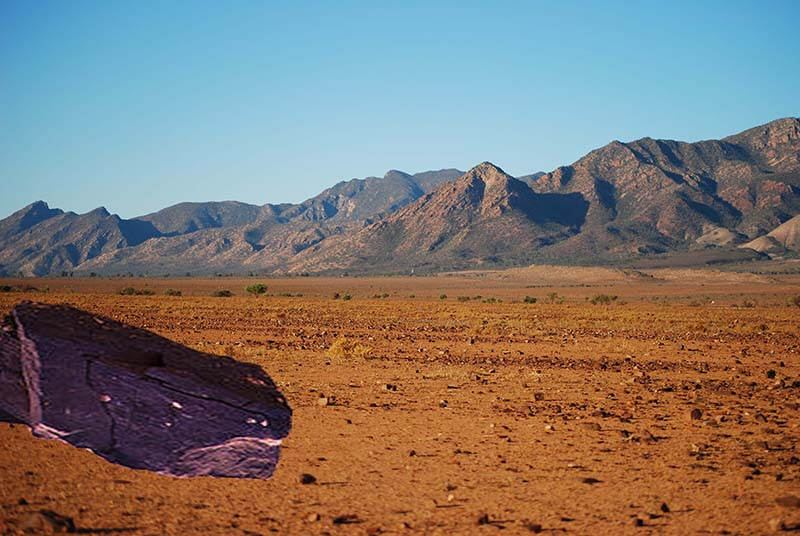Rocks: (1, 291, 296, 486)
